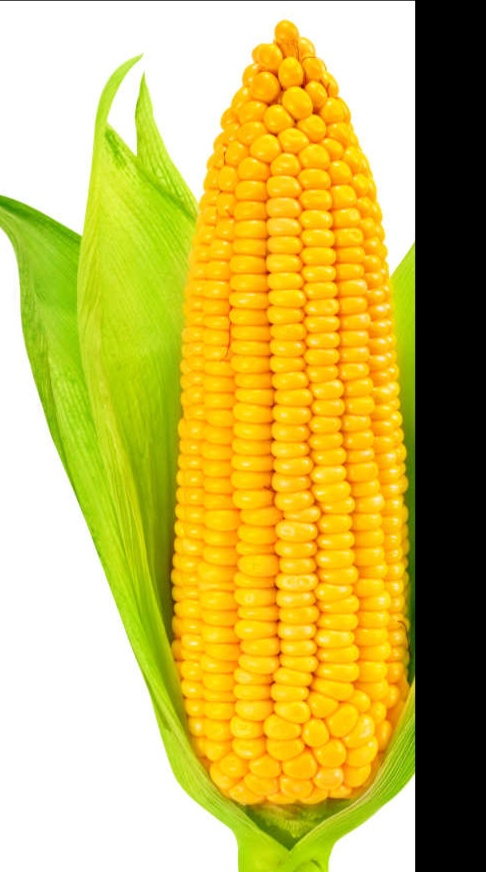corn: (152, 8, 407, 835)
